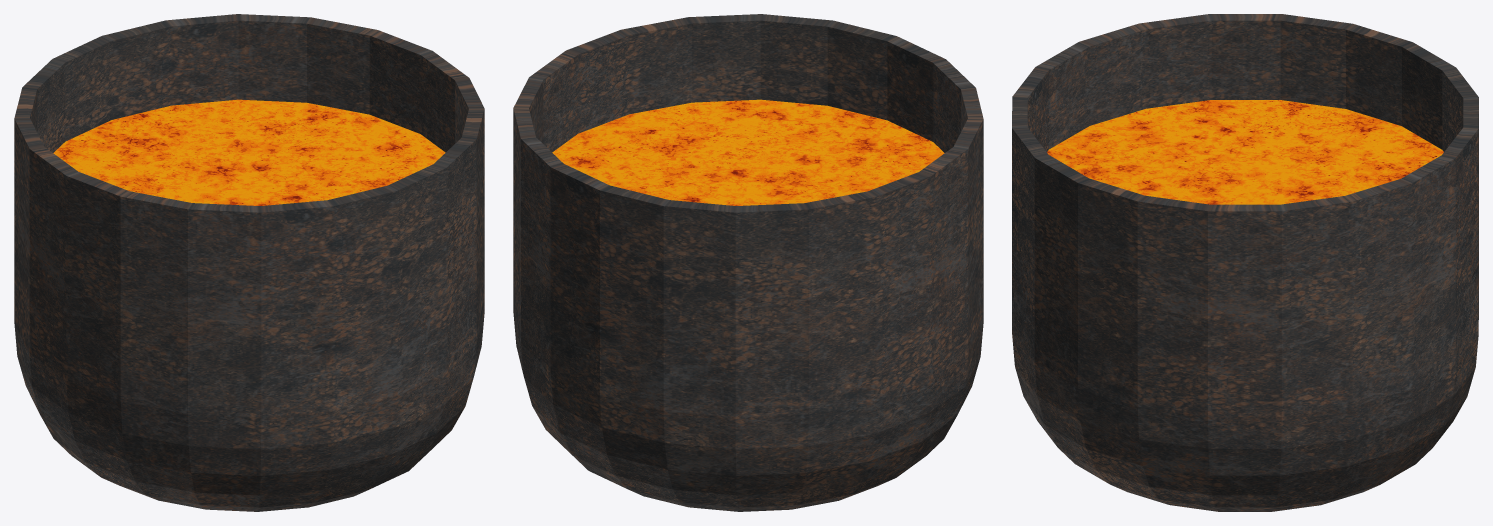
File: tub 2.fbx
3 renders of one model, left to right at view 1: azimuth 30°, elevation 25°; view 2: azimuth 150°, elevation 25°; view 3: azimuth 270°, elevation 25°, orthographic.
Parts seen in each view (by area): view 1: polySurface1; view 2: polySurface1; view 3: polySurface1.
Boxes of the visible parts, bbox=[...] form: polySurface1: bbox=[14, 14, 484, 511]; polySurface1: bbox=[513, 14, 983, 511]; polySurface1: bbox=[1012, 14, 1478, 511].
Bounding box in the file's own units: 10.73 × 8.85 × 10.73.
